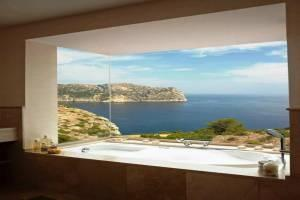window: (26, 39, 292, 164)
